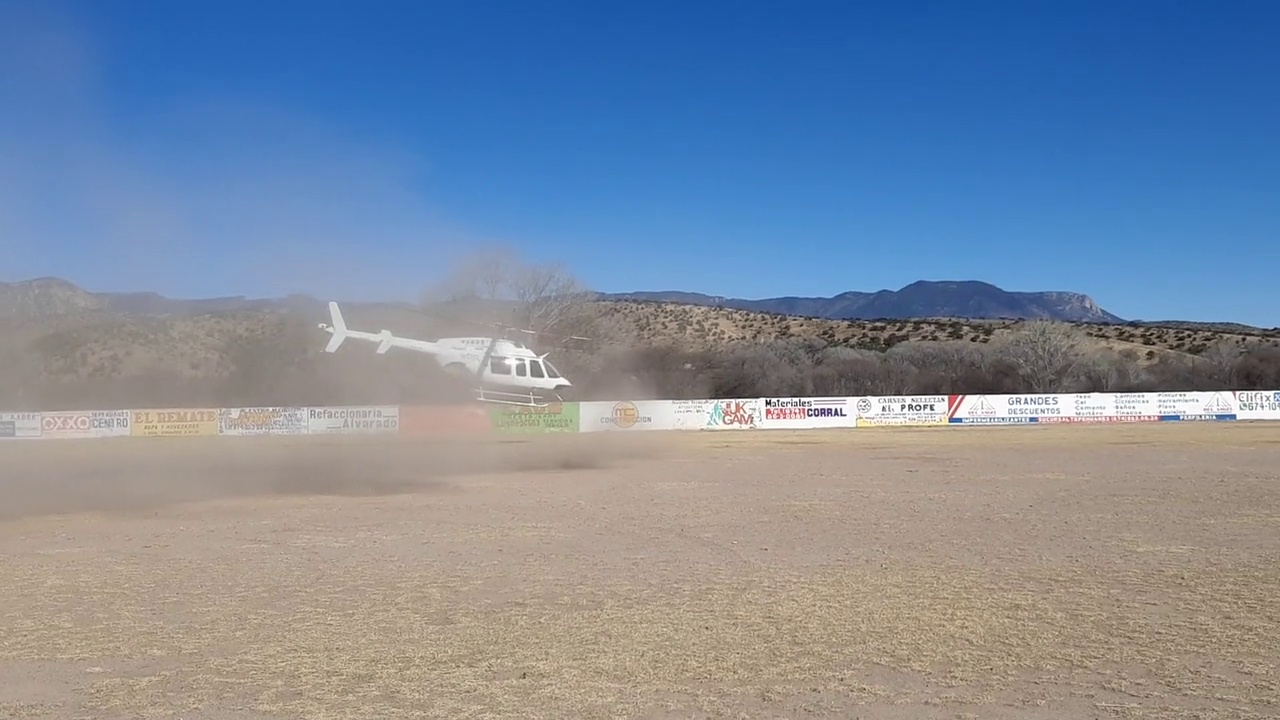heli: (314, 301, 586, 409)
